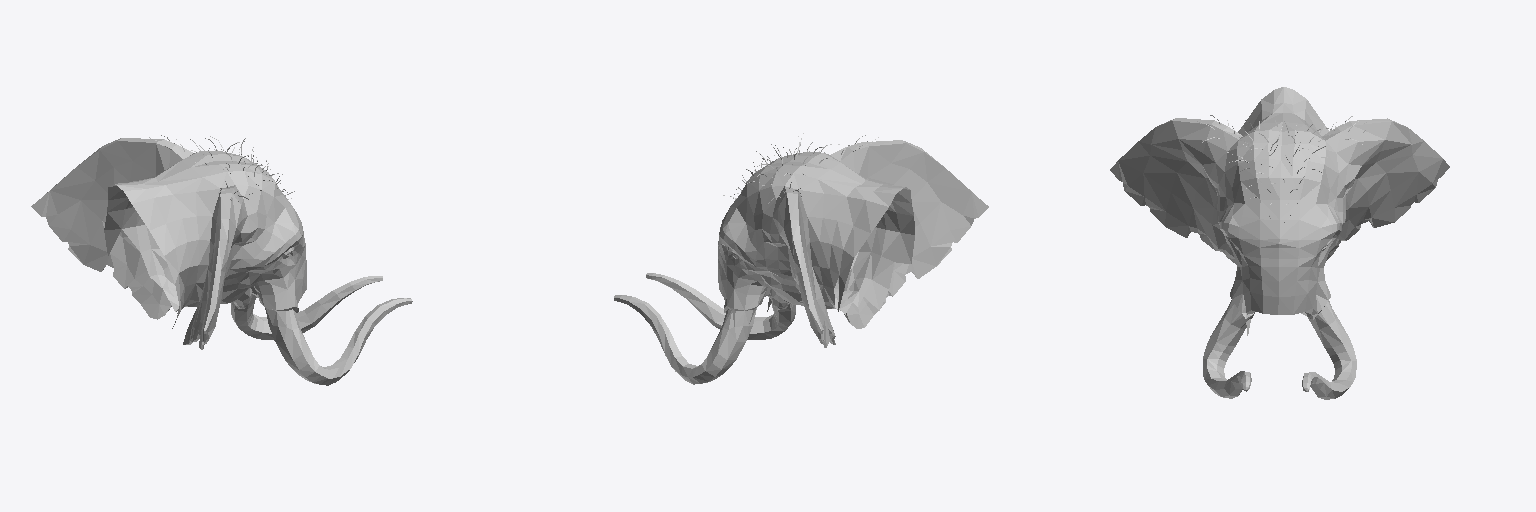
The model's file is cabeza.obj.
3 views of the same model, side by side, from view 1: azimuth 30°, elevation 25°; view 2: azimuth 150°, elevation 25°; view 3: azimuth 270°, elevation 25° (orthographic).
Parts seen in each view (by area): view 1: cabeza; view 2: cabeza; view 3: cabeza.
Boxes of the visible parts, x1,y1,x2,y2 form: cabeza: [31, 135, 412, 385]; cabeza: [614, 133, 988, 384]; cabeza: [1110, 87, 1449, 399].
Bounding box in the file's own units: 27.09 × 21.3 × 28.42.